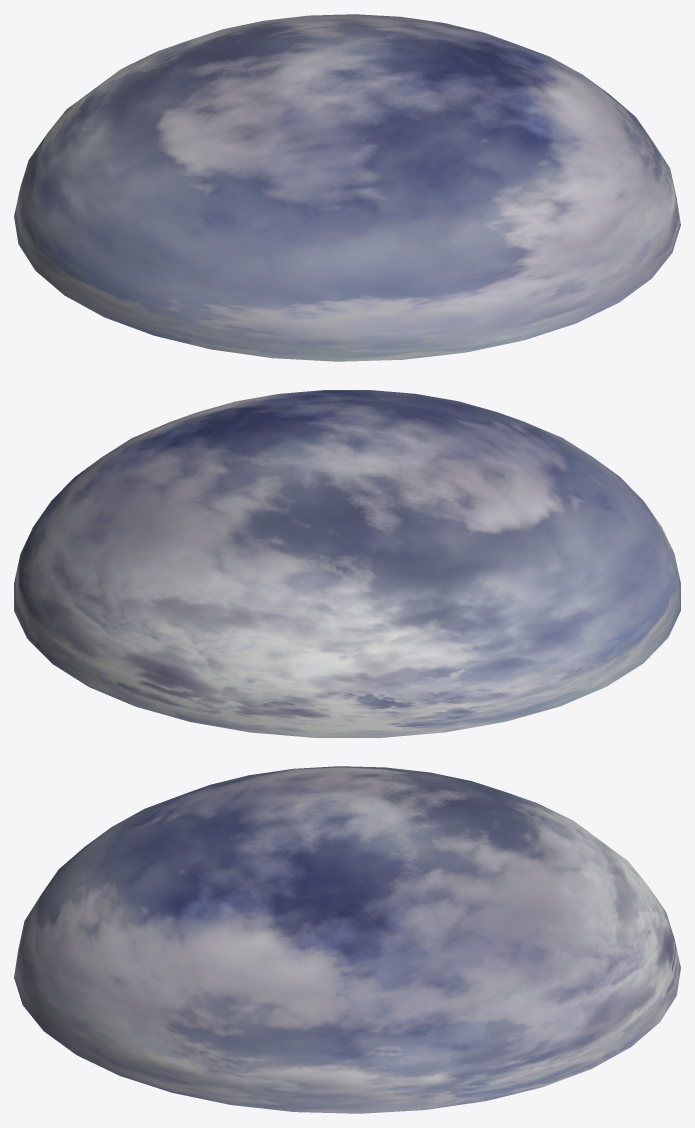
Rendered from skydome.dae.
The picture shows the model from 3 angles, top to bottom: view 1: azimuth 30°, elevation 25°; view 2: azimuth 150°, elevation 25°; view 3: azimuth 270°, elevation 25°; orthographic projection.
Parts seen in each view (by area): view 1: skydome; view 2: skydome; view 3: skydome.
Part boxes in pixels (x1,y1,x2,y2): skydome: [14, 14, 680, 361]; skydome: [14, 390, 680, 737]; skydome: [14, 766, 680, 1113].
Size of the model in its own units: 17497 by 17493 by 4377.
Materials: 1 (1 with a texture image).
